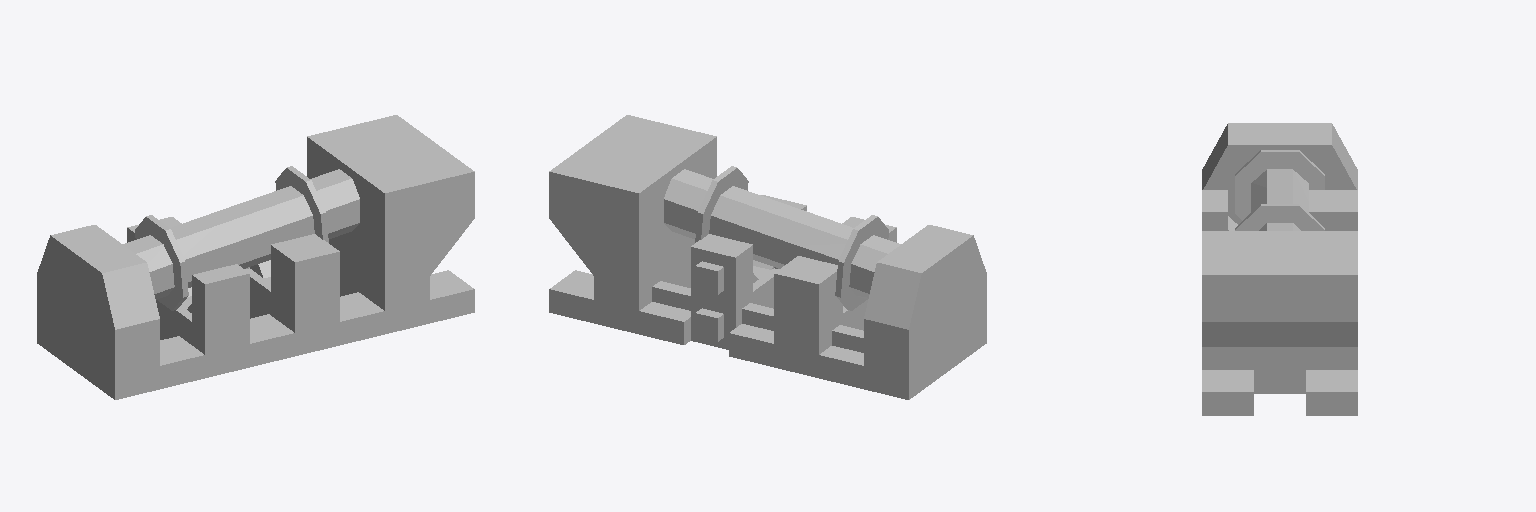
Rendered from rotarykiln.obj.
The picture shows the model from 3 angles: view 1: azimuth 30°, elevation 25°; view 2: azimuth 150°, elevation 25°; view 3: azimuth 270°, elevation 25°; orthographic projection.
Parts seen in each view (by area): view 1: Tube_Cube.002; view 2: Tube_Cube.002; view 3: Tube_Cube.002.
Part boxes in pixels (x1,y1,x2,y2): Tube_Cube.002: (37, 115, 474, 399); Tube_Cube.002: (549, 115, 986, 399); Tube_Cube.002: (1202, 123, 1357, 415).
Size of the model in its own units: 8 by 3.06 by 3.